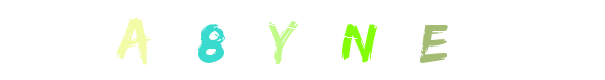8: (177, 0, 257, 80)
A: (171, 0, 251, 80)
E: (386, 0, 466, 80)
N: (318, 0, 398, 80)
Y: (263, 0, 343, 80)
